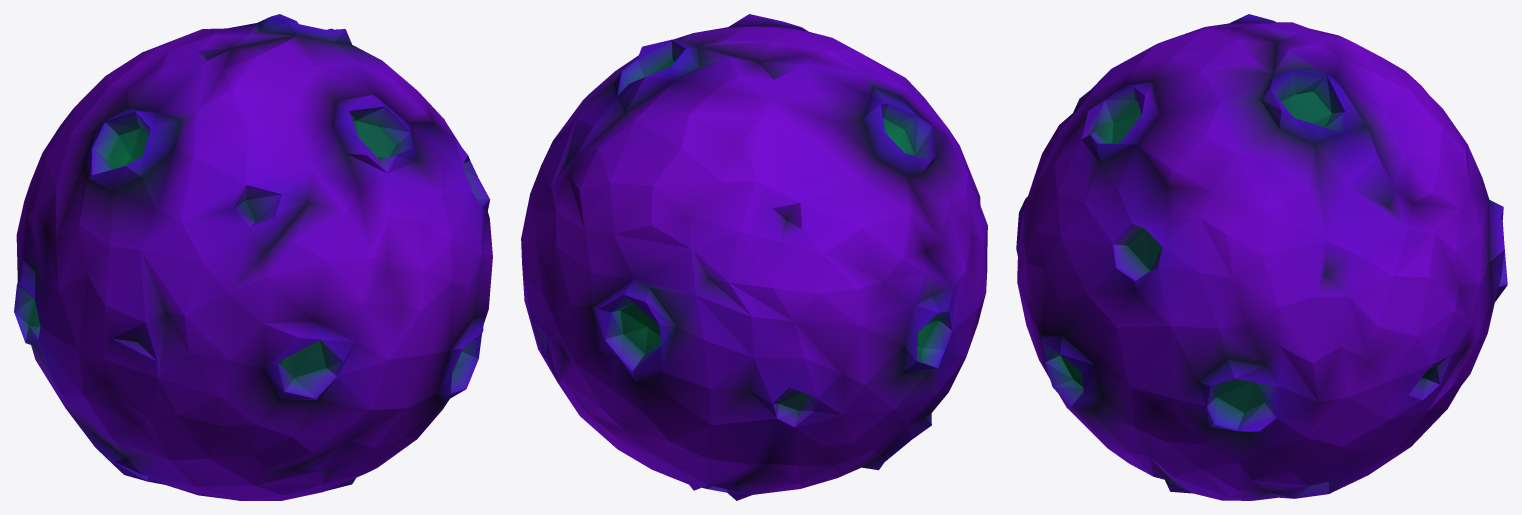
Rendered from moon23.fbx.
The picture shows the model from 3 angles, left to right: view 1: azimuth 30°, elevation 25°; view 2: azimuth 150°, elevation 25°; view 3: azimuth 270°, elevation 25°; orthographic projection. The views are drawn at different scales.
Parts seen in each view (by area): view 1: attribblur1; view 2: attribblur1; view 3: attribblur1.
Boxes of the visible parts, x1,y1,x2,y2 form: attribblur1: (14,14,492,500); attribblur1: (521,14,987,500); attribblur1: (1016,14,1507,500).
Bounding box in the file's own units: 0.8161 × 0.7987 × 0.8099.
